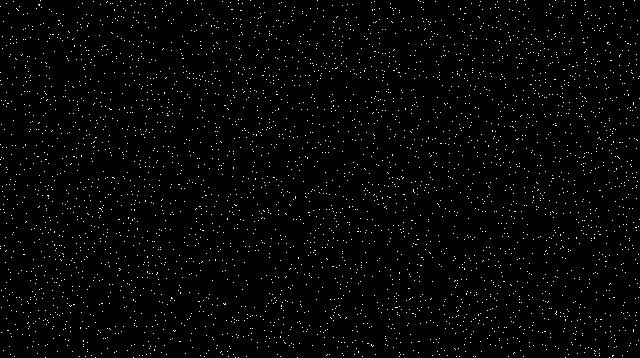pot: (183, 113, 388, 297)
